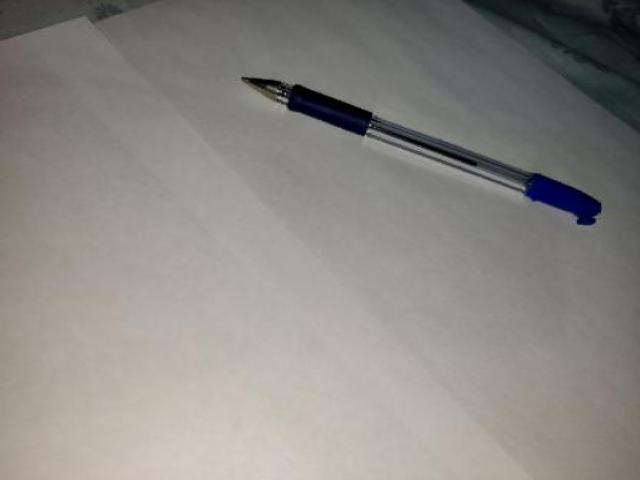PEN: (224, 54, 620, 240)
